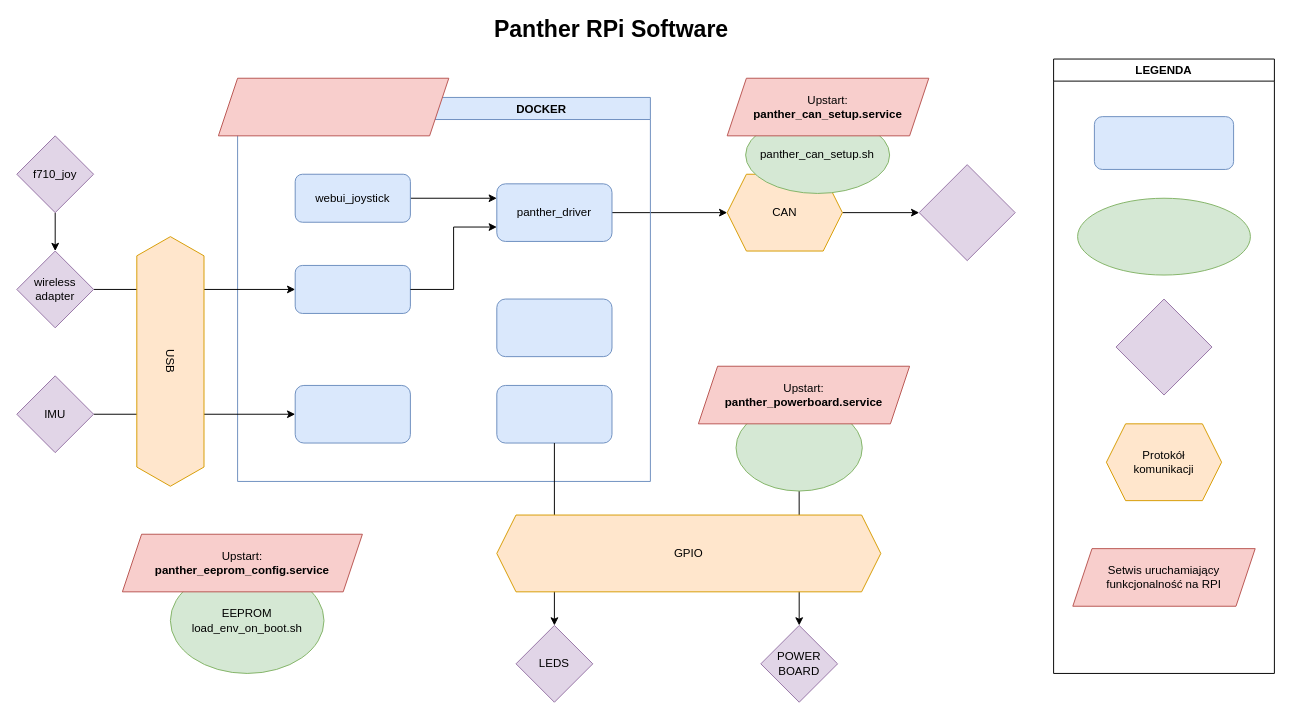
Some shapes in this 1291 by 719 pixel diagram are drawn without their labels. The shapes that lost their labels are listed below. From the top down, each one's box as (x1, y1, x2, y2) in pixels, then its label:
(217, 77, 449, 136): Upstart (automatic): docker
(1093, 116, 1234, 169): Kontener Dockerowy
(918, 164, 1015, 261): 4x Roboteq Motor drivers
(1077, 197, 1250, 275): skrypt
(294, 264, 410, 313): f710_joy_driver TODO
(496, 298, 612, 357): roscore 10.15.20.2
(1115, 298, 1212, 395): Element Hardware
(294, 384, 410, 443): imu_driver TODO
(496, 384, 612, 443): panther lights
(735, 404, 862, 491): soft_stop_script.py
